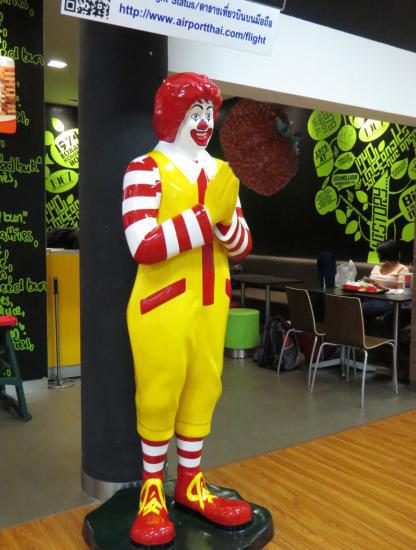Strawberry: (211, 94, 313, 196)
